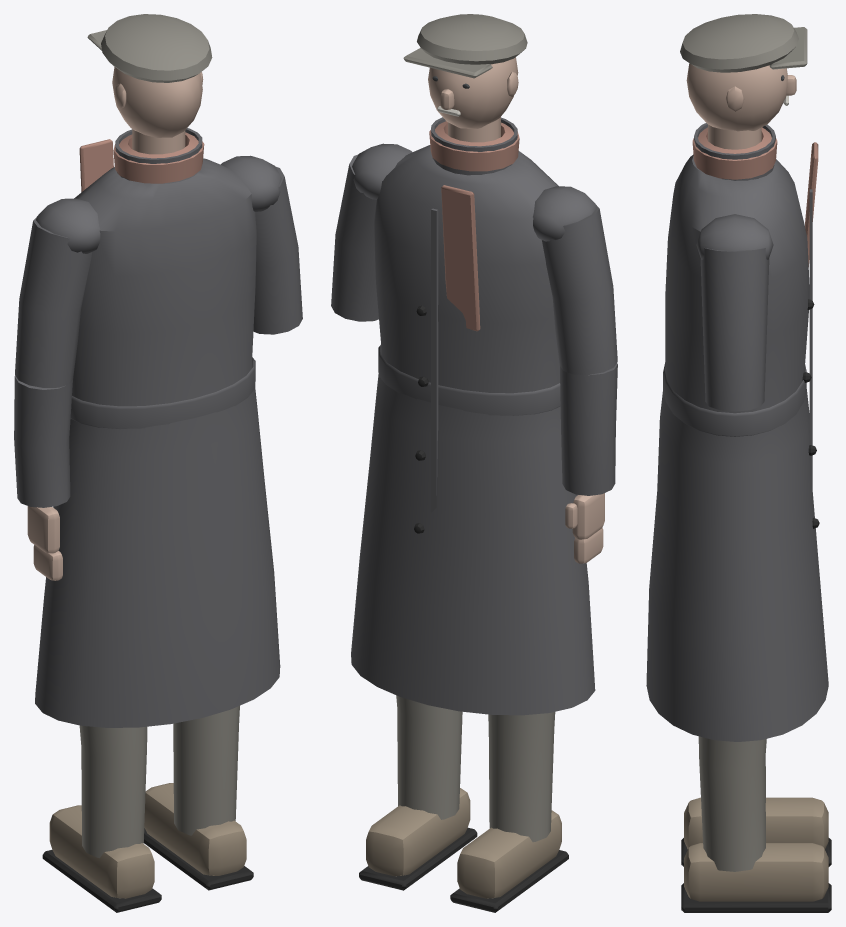
Rendered from lev_body.glb.
3 views of the same model, side by side, from view 1: azimuth 30°, elevation 25°; view 2: azimuth 150°, elevation 25°; view 3: azimuth 270°, elevation 25° (orthographic).
Parts seen in each view (by area): view 1: lev_body; view 2: lev_body; view 3: lev_body.
Boxes of the visible parts, <box> form: lev_body: <box>14,14,302,912</box>; lev_body: <box>331,14,617,912</box>; lev_body: <box>646,14,831,912</box>.
Bounding box in the file's own units: 0.6097 × 1.76 × 0.345.
